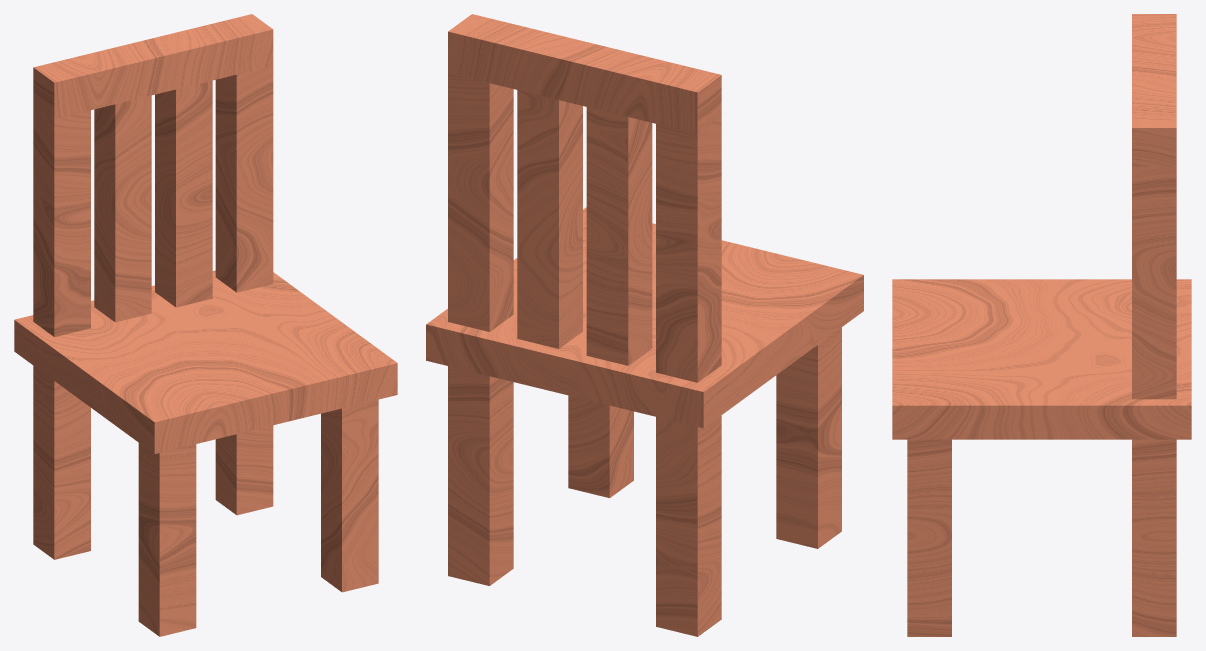
File: Chair-Fixed.fbx
3 renders of one model, left to right at view 1: azimuth 30°, elevation 25°; view 2: azimuth 150°, elevation 25°; view 3: azimuth 270°, elevation 25°, orthographic. The views are drawn at different scales.
Visible parts, largest first — view 1: Chair-Fixed; view 2: Chair-Fixed; view 3: Chair-Fixed.
Part boxes in pixels (x1,y1,x2,y2): Chair-Fixed: [14, 14, 397, 636]; Chair-Fixed: [426, 14, 863, 636]; Chair-Fixed: [892, 14, 1191, 636].
Bounding box in the file's own units: 200 × 375 × 200.
Materials: 1 (1 with a texture image).
